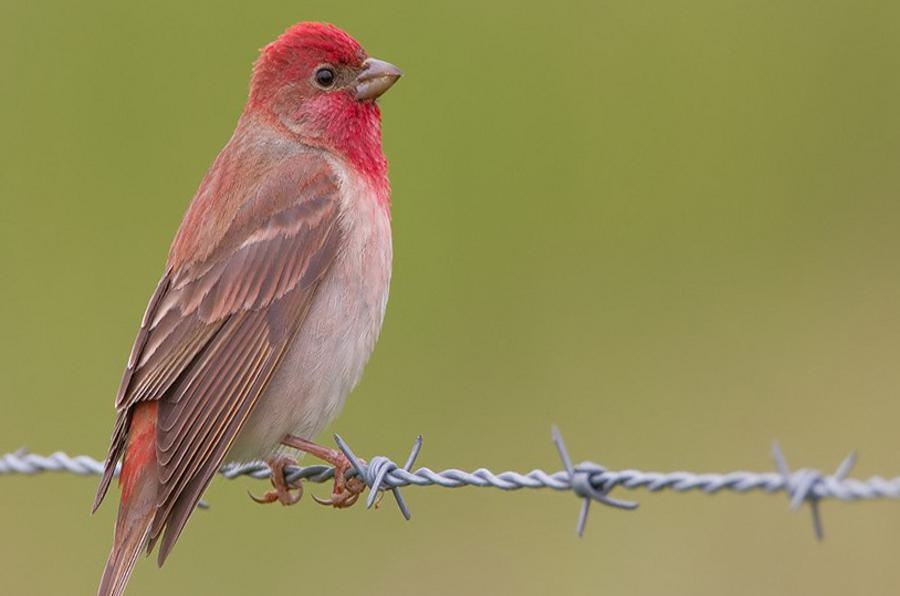rosefinch: (105, 23, 406, 557)
